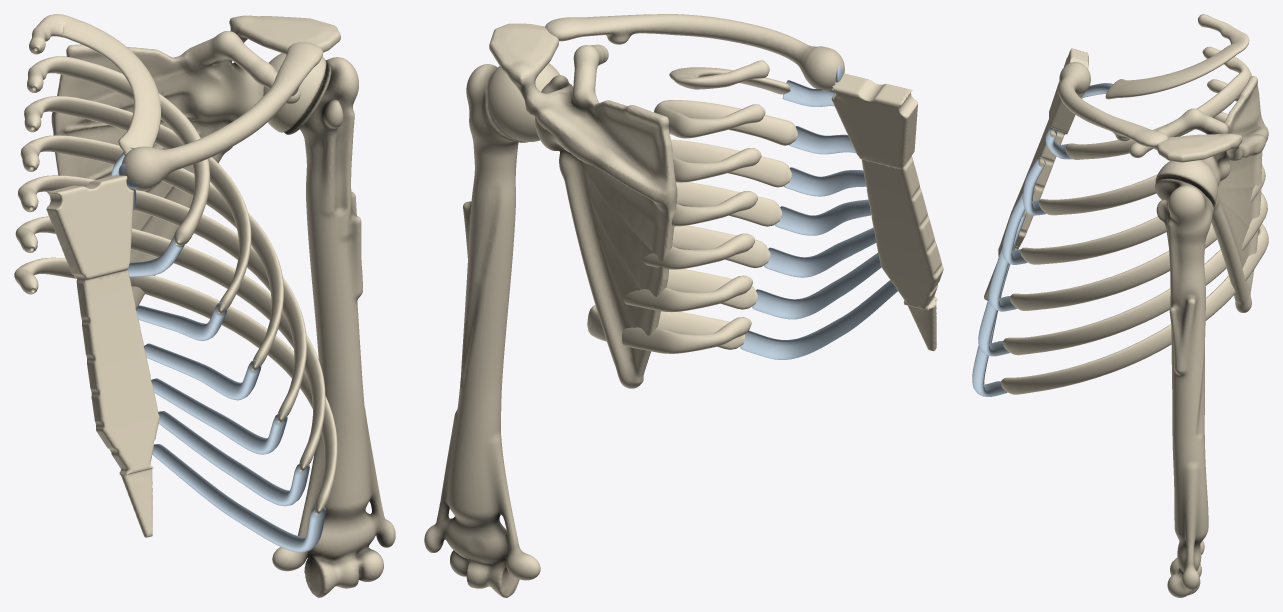
Rendered from hombro-anterior.glb.
The picture shows the model from 3 angles, left to right: view 1: azimuth 30°, elevation 25°; view 2: azimuth 150°, elevation 25°; view 3: azimuth 270°, elevation 25°; orthographic projection. The views are drawn at different scales.
Parts seen in each view (by area): view 1: sternum_body, humerus_L_shaft, sternum_manubrium, clavicle_L, rib_L_07, scapula_L_infraspinous_fossa, rib_L_06, rib_L_05, rib_L_04, rib_L_01, rib_L_03, humerus_L_supracondylar_ridges (+25 smaller); view 2: scapula_L_infraspinous_fossa, humerus_L_shaft, sternum_body, clavicle_L, sternum_manubrium, scapula_L_spine, humerus_L_supracondylar_ridges, scapula_L_supraspinous_fossa, rib_L_07, rib_L_02, rib_L_06, rib_L_03 (+21 smaller); view 3: scapula_L_infraspinous_fossa, rib_L_07, rib_L_06, humerus_L_shaft, rib_L_05, rib_L_01, clavicle_L, rib_L_04, rib_L_02, humerus_L_supracondylar_ridges, humerus_L_greater_tubercle, rib_L_03 (+21 smaller).
Part boxes in pixels (x1,y1,x2,y2): sternum_body: [76, 269, 159, 474]; humerus_L_shaft: [306, 194, 367, 493]; sternum_manubrium: [46, 174, 133, 280]; clavicle_L: [121, 42, 323, 190]; rib_L_07: [14, 257, 337, 514]; scapula_L_infraspinous_fossa: [52, 74, 232, 307]; rib_L_06: [15, 216, 325, 471]; rib_L_05: [17, 175, 306, 422]; rib_L_04: [20, 135, 283, 370]; rib_L_01: [29, 14, 161, 153]; rib_L_03: [24, 96, 251, 313]; humerus_L_supracondylar_ridges: [307, 407, 378, 560]; scapula_L_infraspinous_fossa: [559, 148, 677, 388]; humerus_L_shaft: [451, 201, 515, 500]; sternum_body: [861, 156, 943, 310]; clavicle_L: [545, 14, 844, 91]; sternum_manubrium: [831, 73, 917, 168]; scapula_L_spine: [512, 80, 675, 209]; humerus_L_supracondylar_ridges: [441, 410, 509, 564]; scapula_L_supraspinous_fossa: [583, 94, 677, 197]; rib_L_07: [587, 305, 751, 353]; rib_L_02: [654, 100, 797, 145]; rib_L_06: [623, 269, 757, 312]; rib_L_03: [671, 139, 791, 187]; scapula_L_infraspinous_fossa: [1211, 151, 1262, 312]; rib_L_07: [1000, 224, 1268, 394]; rib_L_06: [1003, 192, 1267, 355]; humerus_L_shaft: [1171, 286, 1208, 522]; rib_L_05: [1010, 164, 1265, 310]; rib_L_01: [1105, 14, 1249, 99]; clavicle_L: [1058, 62, 1168, 147]; rib_L_04: [1020, 112, 1228, 264]; rib_L_02: [1065, 46, 1251, 159]; humerus_L_supracondylar_ridges: [1174, 462, 1208, 572]; humerus_L_greater_tubercle: [1167, 180, 1212, 246]; rib_L_03: [1038, 79, 1239, 215].
Size of the model in its own units: 0.2506 by 0.3526 by 0.2016.
